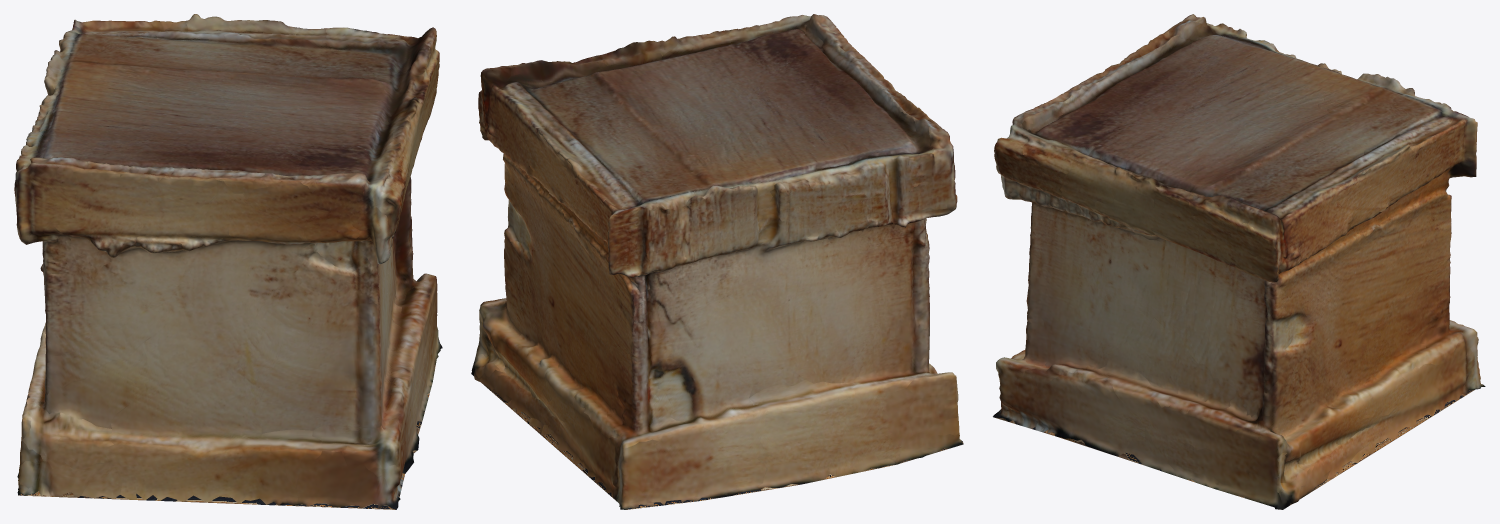
3 renders of one model, left to right at view 1: azimuth 30°, elevation 25°; view 2: azimuth 150°, elevation 25°; view 3: azimuth 270°, elevation 25°, orthographic. The views are drawn at different scales.
Parts seen in each view (by area): view 1: Object; view 2: Object; view 3: Object.
Boxes of the visible parts, x1,y1,x2,y2 form: Object: (14,14,442,509); Object: (471,14,963,509); Object: (993,14,1485,509).
Size of the model in its own units: 2.84 by 1.93 by 2.86.
1 material, 1 textured.
